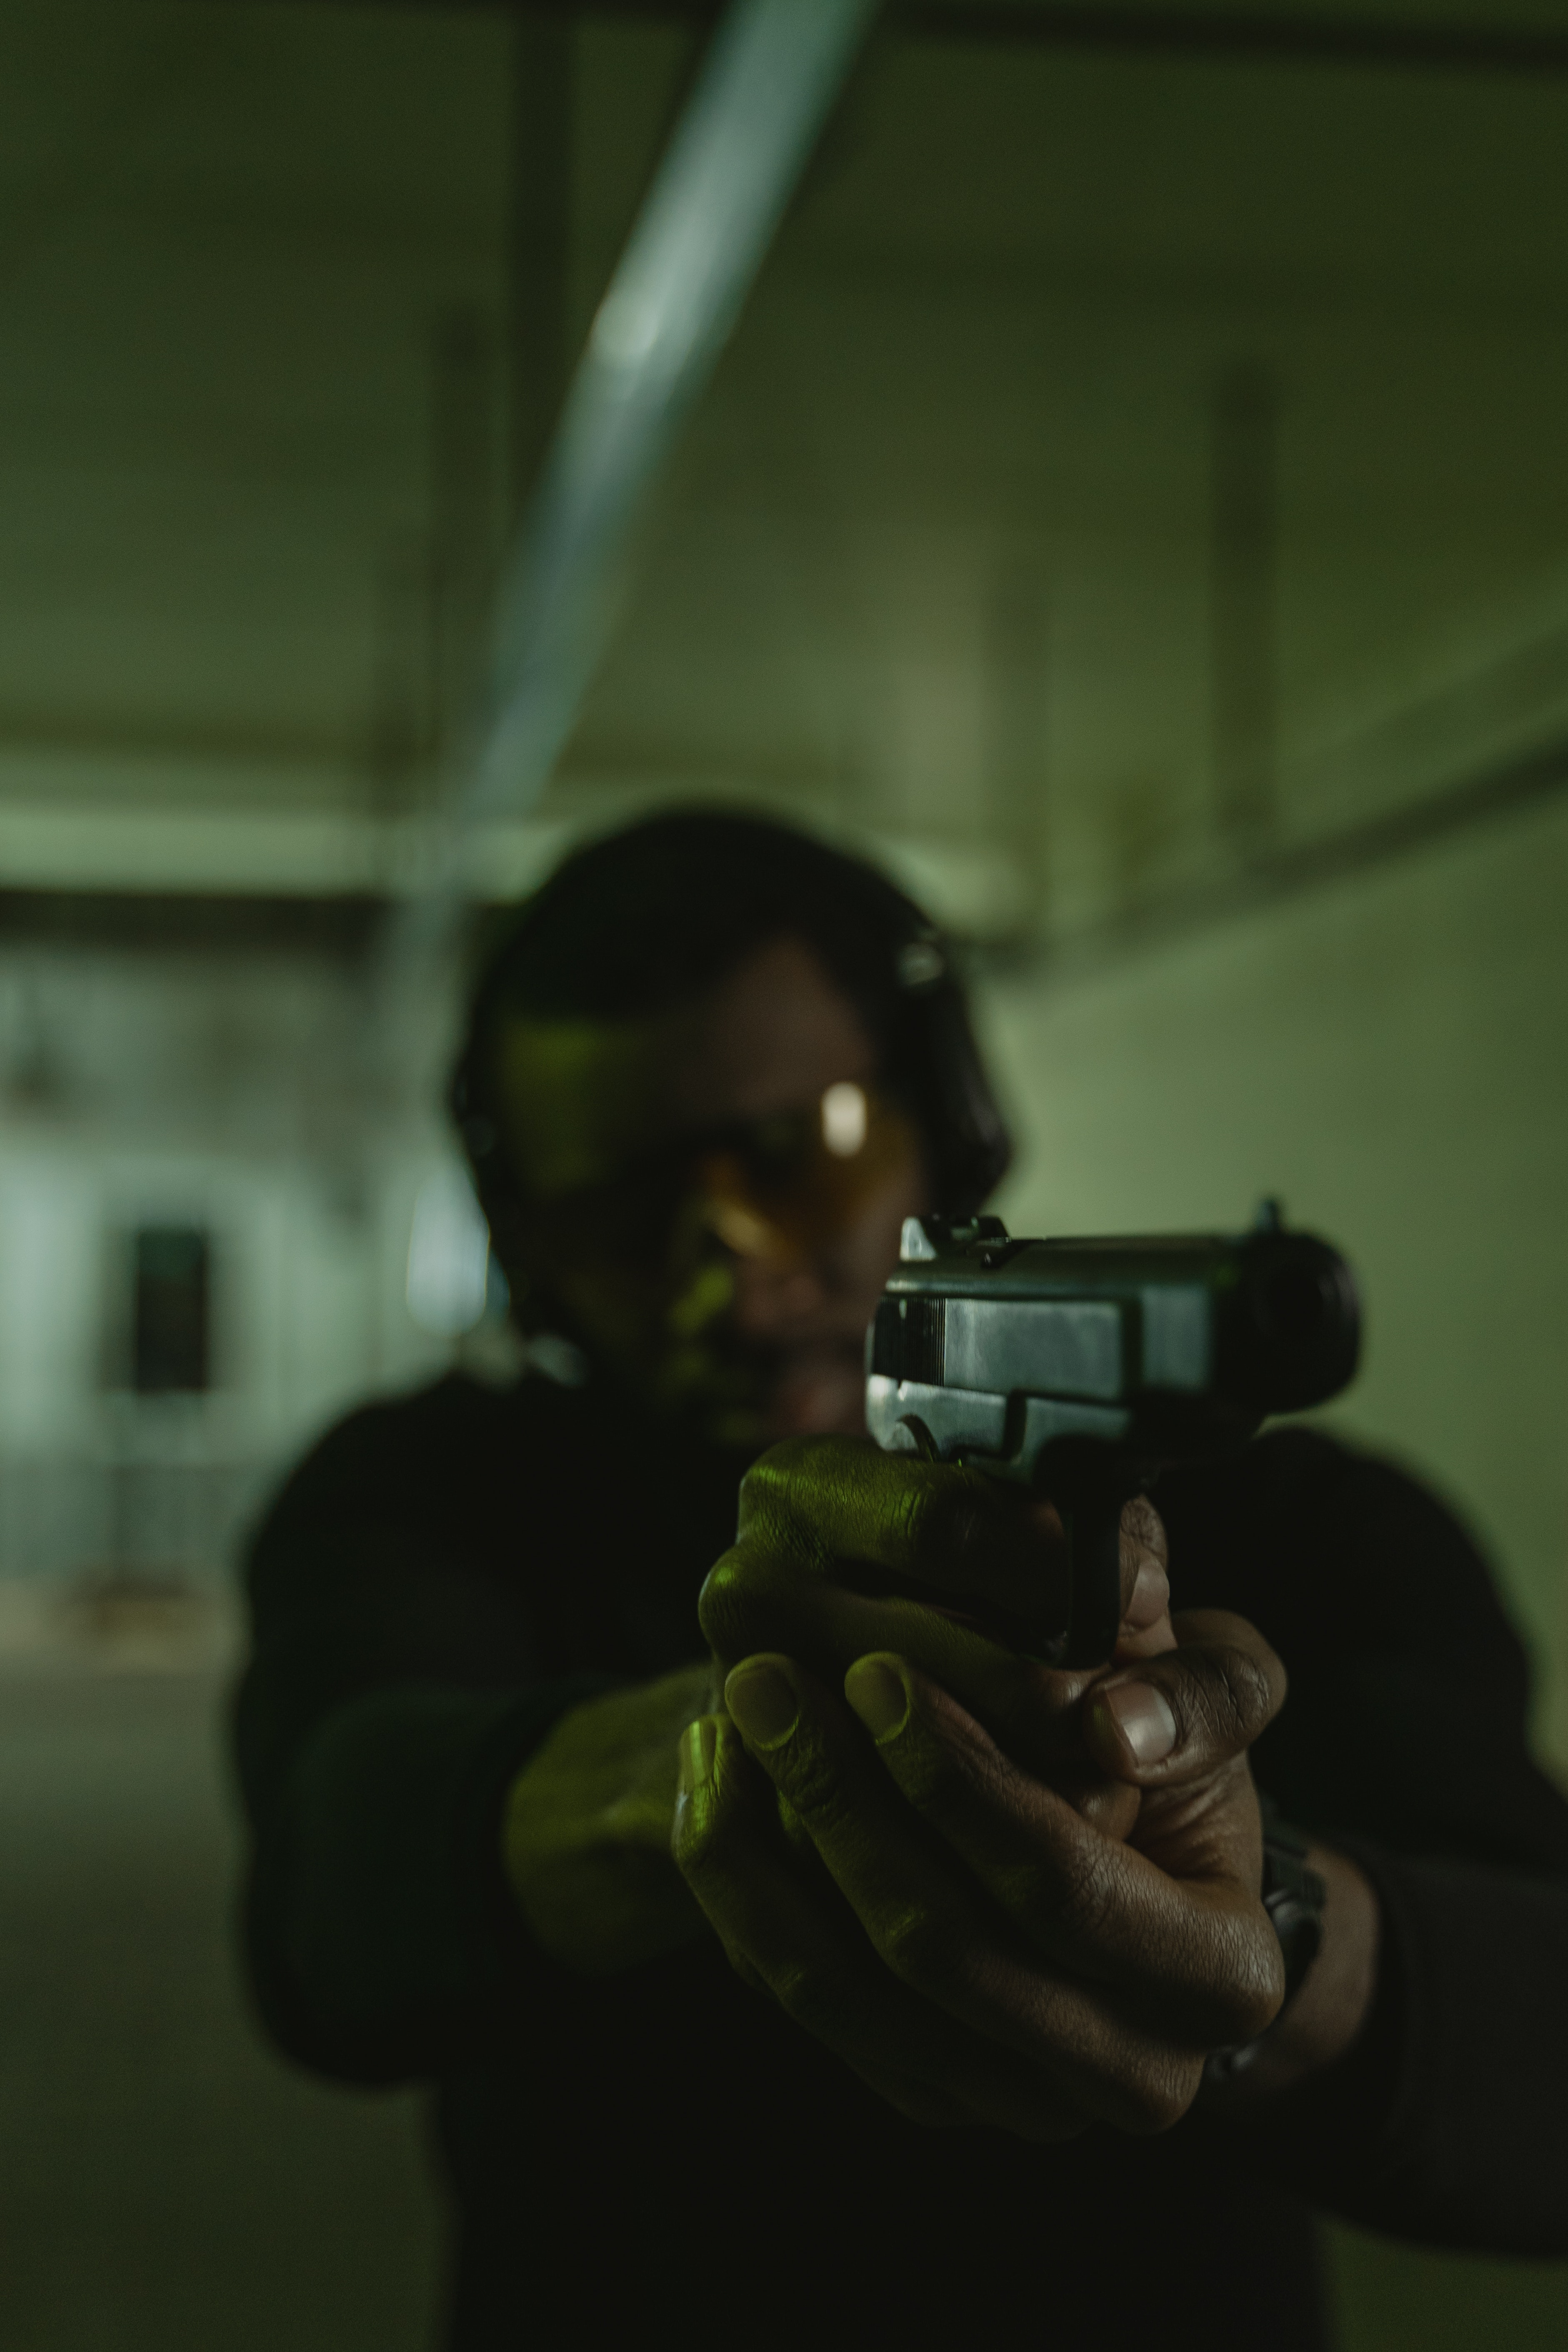gun: (838, 1183, 1391, 1585)
